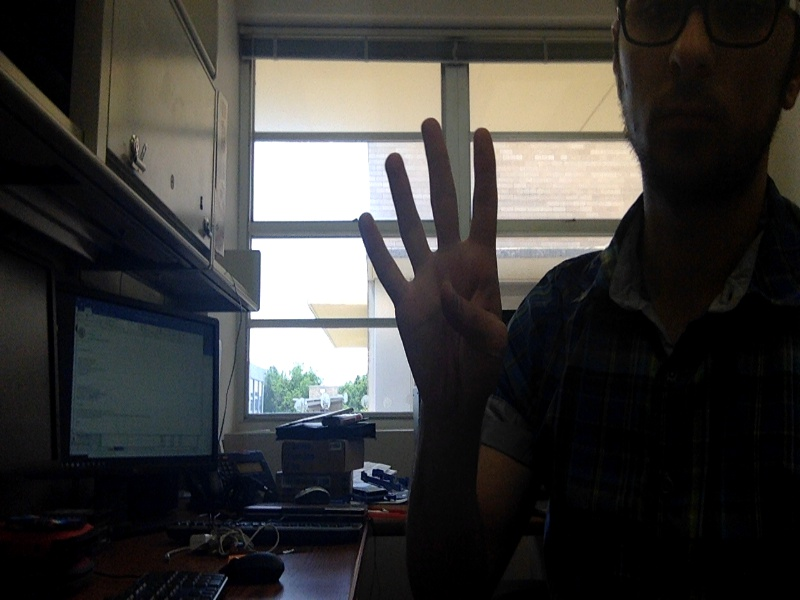4-hand: (359, 118, 518, 403)
